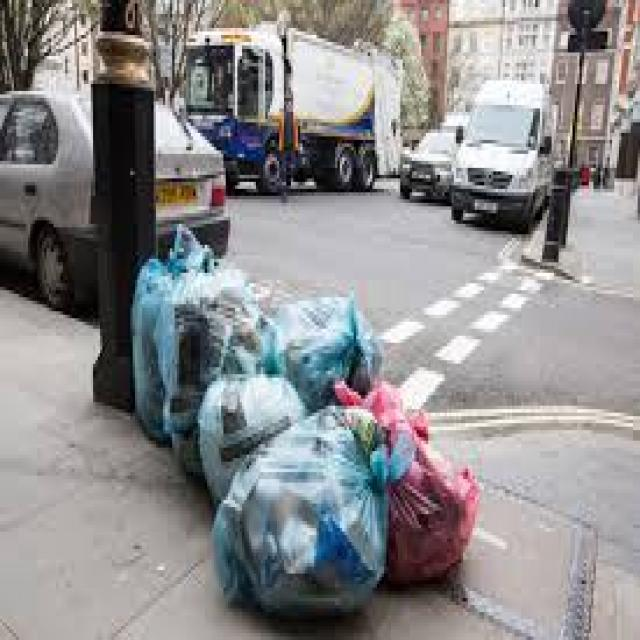plastic_bag: (215, 424, 385, 603), (176, 274, 248, 466), (383, 428, 460, 589), (199, 372, 303, 477), (274, 288, 374, 396), (132, 267, 181, 435)
